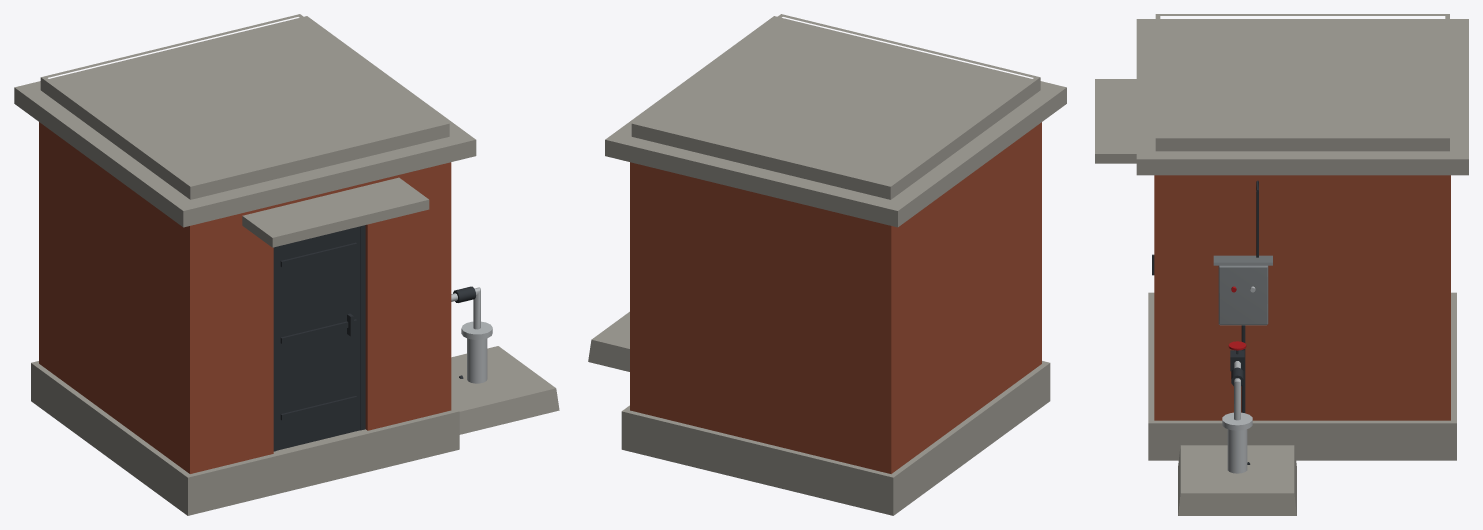
Rendered from pump_house.glb.
3 views of the same model, side by side, from view 1: azimuth 30°, elevation 25°; view 2: azimuth 150°, elevation 25°; view 3: azimuth 270°, elevation 25° (orthographic).
Parts seen in each view (by area): view 1: pump_house; view 2: pump_house; view 3: pump_house.
Part boxes in pixels (x1,y1,x2,y2): pump_house: (14, 14, 559, 515); pump_house: (588, 14, 1066, 515); pump_house: (1095, 14, 1468, 515).
Bounding box in the file's own units: 3.8 × 2.97 × 3.15.
